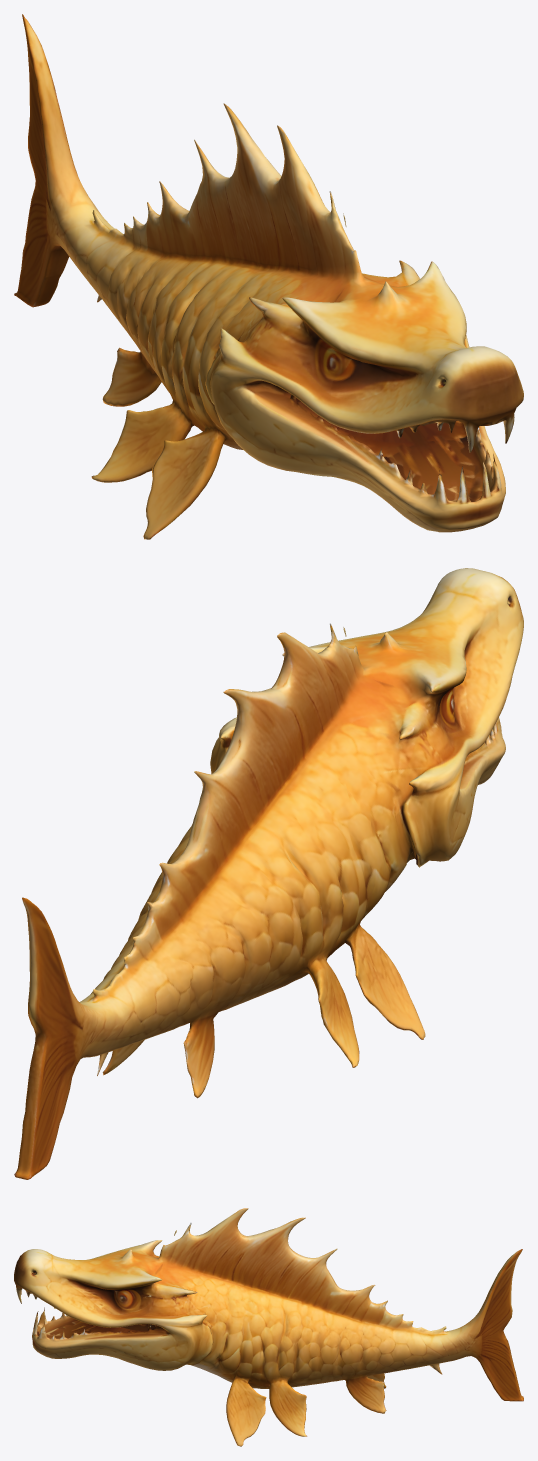
File: barragon.obj
The picture shows the model from 3 angles, top to bottom: view 1: azimuth 30°, elevation 25°; view 2: azimuth 150°, elevation 25°; view 3: azimuth 270°, elevation 25°; orthographic projection. The views are drawn at different scales.
Size of the model in its own units: 0.6456 by 0.8283 by 1.9.
